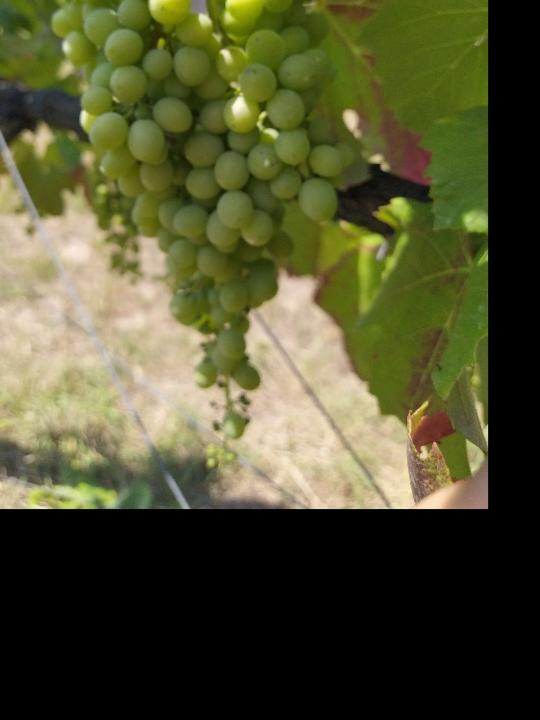grape: (36, 0, 355, 472)
